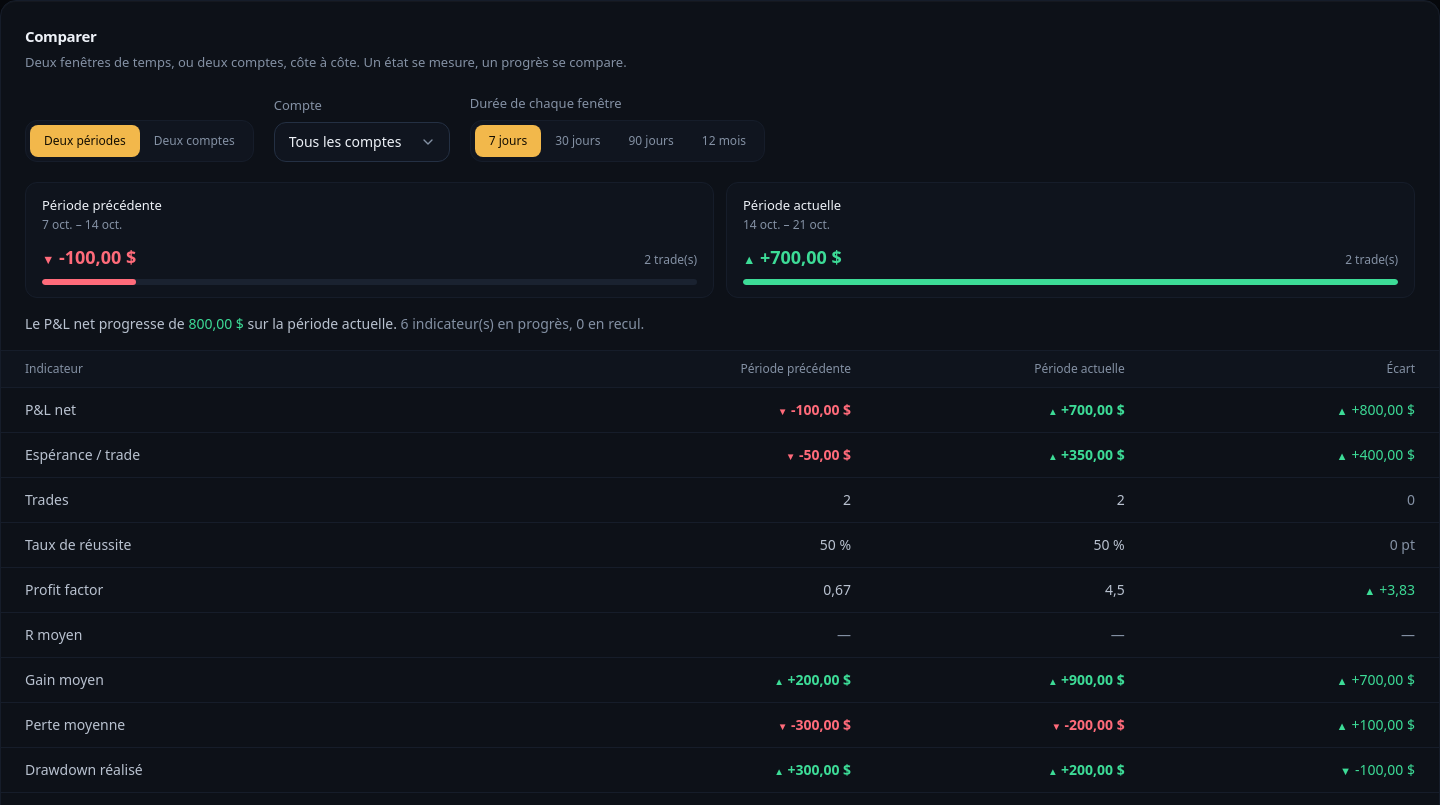
it: comparaison de deux périmètres › bascule sur deux comptes et nomme les deux côtés
This screenshot has width=1440, height=805.
Click the button "Deux comptes" at (194, 140), box [140,124,249,156]
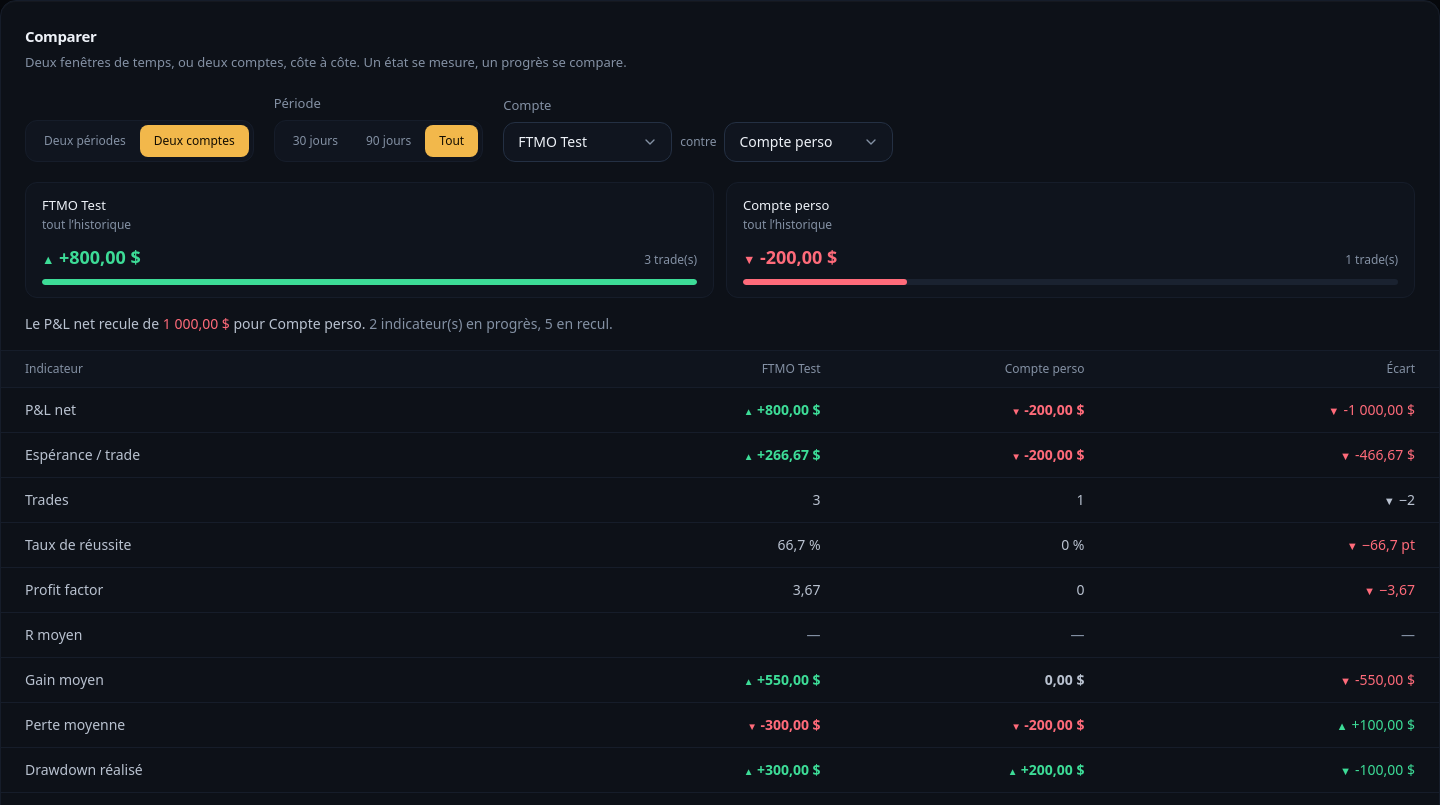
Expected: the dropdown named "Premier compte" is shown, [503,122,672,162]
Expected: the text "FTMO Test" is shown, [42,196,106,214]
Expected: the text "Compte perso" is shown, [743,196,829,214]
